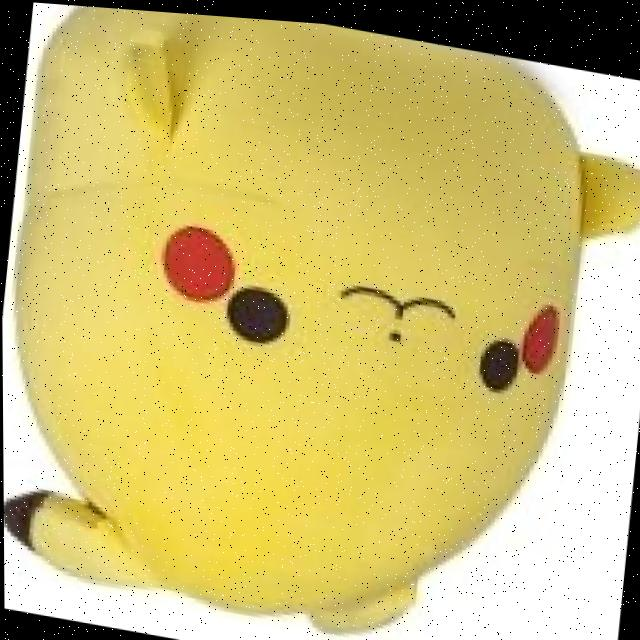Pikachu: (14, 8, 625, 640)
